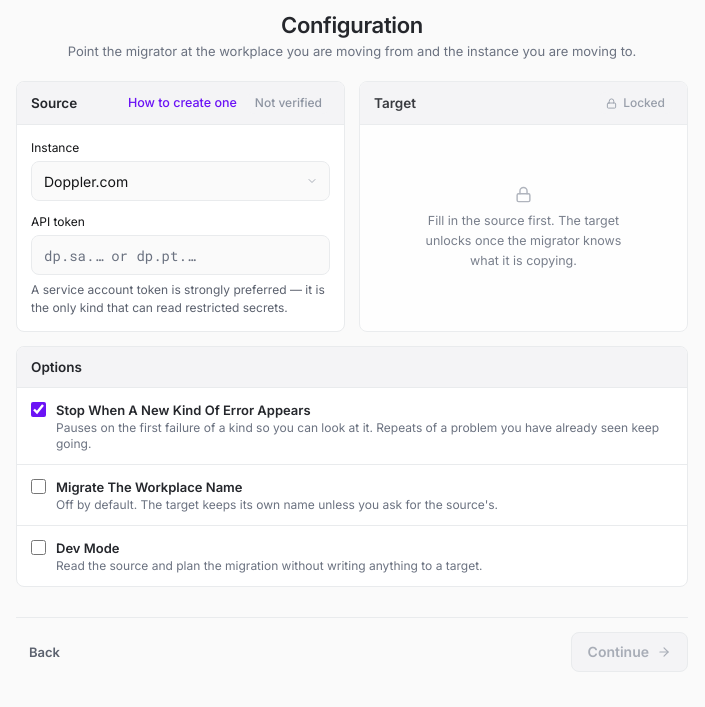
Test: ConfigurationPage › asks for a host only when the instance is self-hosted
Expected: the field labelled "Host" is not shown
Select "Self-hosted" in the dropdown labelled "Instance" at (180, 181), box left=31, top=161, right=330, bottom=201
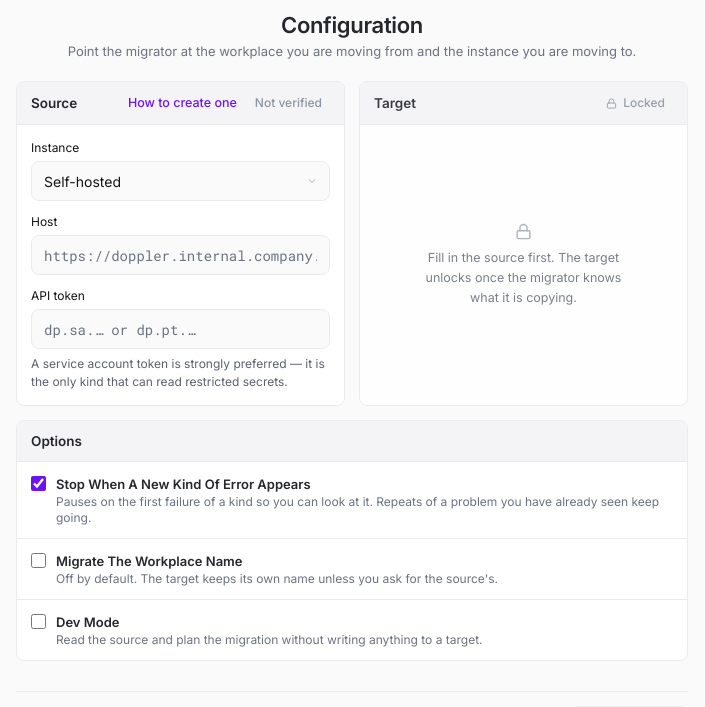
Expected: the field labelled "Host" is shown, left=31, top=235, right=330, bottom=275
